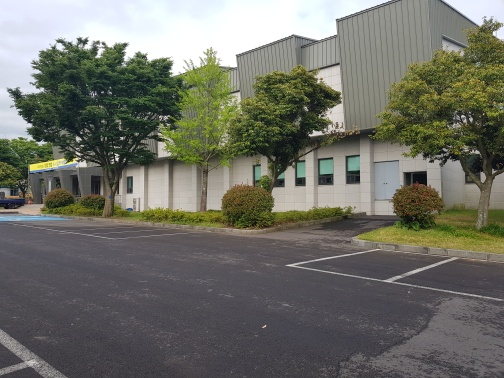Gym: (44, 8, 502, 225), (252, 138, 435, 225), (24, 168, 107, 208)
